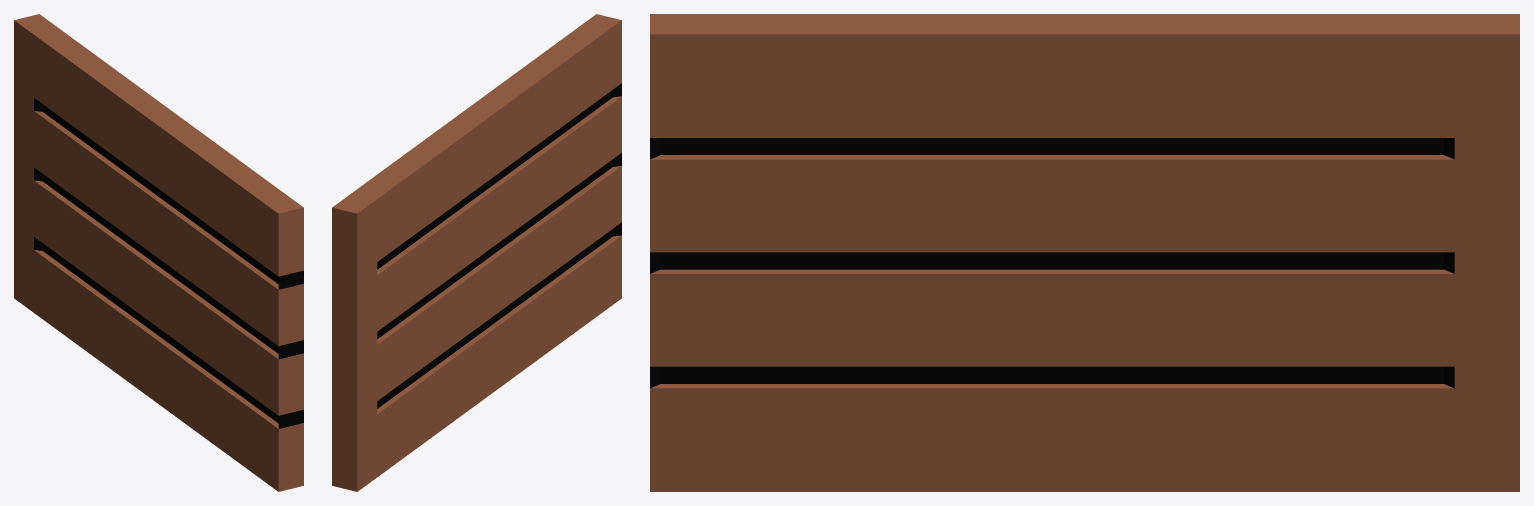
The model's file is Porta Garatge.fbx.
3 views of the same model, side by side, from view 1: azimuth 30°, elevation 25°; view 2: azimuth 150°, elevation 25°; view 3: azimuth 270°, elevation 25° (orthographic). The views are drawn at different scales.
Visible parts, largest first — view 1: Cube.054, Cube.055; view 2: Cube.054, Cube.055; view 3: Cube.054, Cube.055.
Boxes of the visible parts, x1,y1,x2,y2 form: Cube.054: (34, 28, 303, 491); Cube.055: (14, 14, 58, 312); Cube.054: (352, 14, 621, 476); Cube.055: (332, 193, 377, 491); Cube.054: (650, 14, 1454, 491); Cube.055: (1454, 14, 1519, 491).
Size of the model in its own units: 0.8 by 8.4 by 14.47.
